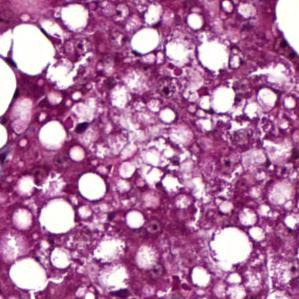steatosis: (6, 19, 57, 75), (75, 169, 110, 205), (125, 26, 166, 54)
